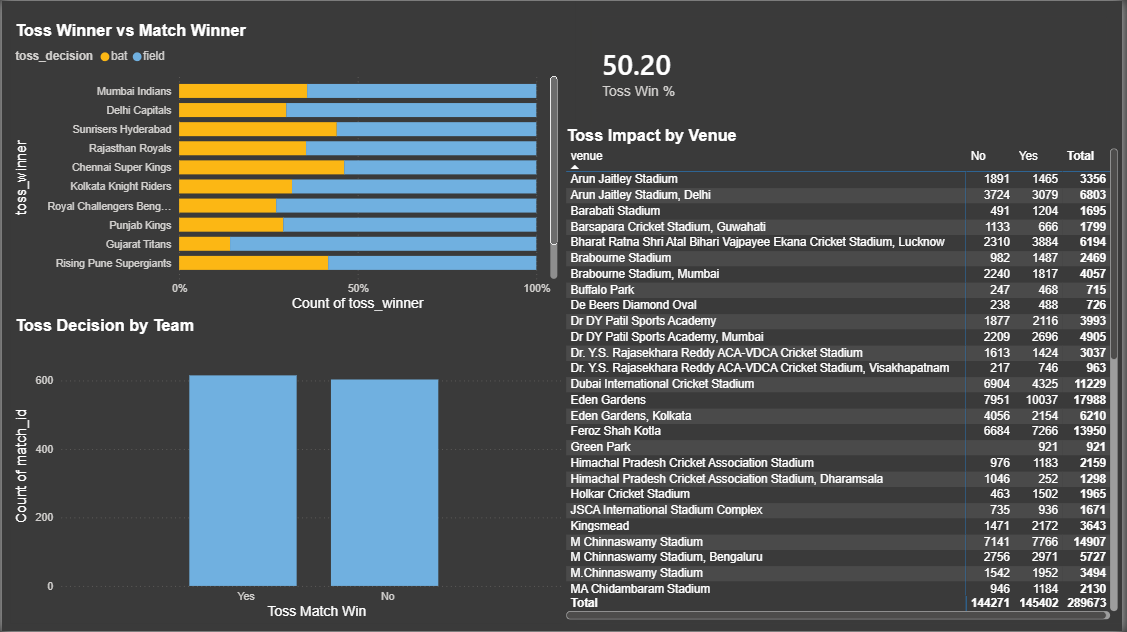

What the dashboard file says about the page in this screenshot:
{"tool":"powerbi","page":{"name":"Toss Analysis","canvas":[1280,720],"ordinal":1},"visuals":[{"type":"cardVisual","fields":{"Data":["IPL_Cleaned.Toss Win %"]},"box":[655.9,0,624.4,161.9],"z":0},{"type":"clusteredColumnChart","title":"Toss Decision by Team","fields":{"Y":["Count(IPL_Cleaned.match_id)"],"Category":["IPL_Cleaned.Toss Match Win"]},"box":[9.6,359.5,646.3,351.3],"z":1000},{"type":"hundredPercentStackedBarChart","title":"Toss Winner vs Match Winner","fields":{"Category":["IPL_Cleaned.toss_winner"],"Series":["IPL_Cleaned.toss_decision"],"Y":["CountNonNull(IPL_Cleaned.toss_winner)"]},"box":[9.6,23.3,629.8,336.2],"z":2000},{"type":"pivotTable","title":"Toss Impact by Venue","fields":{"Rows":["IPL_Cleaned.venue"],"Columns":["IPL_Cleaned.Toss Match Win"],"Values":["CountNonNull(IPL_Cleaned.venue)"]},"box":[640,142.5,640,568.7],"z":3000}]}

Visuals, with their boxes in screenshot pixels (x1, y1, x2, y2), scaled from the page's 1280x720 canvas onto the 1127x632 screenshot:
cardVisual - IPL_Cleaned.Toss Win %: (577, 0, 1126, 142)
"Toss Decision by Team" clusteredColumnChart: (8, 316, 577, 624)
"Toss Winner vs Match Winner" hundredPercentStackedBarChart: (8, 20, 563, 316)
"Toss Impact by Venue" pivotTable: (564, 125, 1126, 624)
